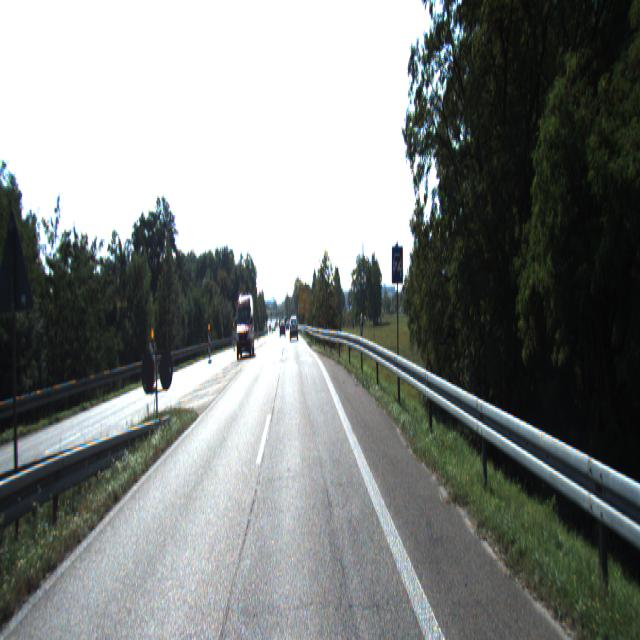Car: (235, 296, 255, 364), (289, 316, 298, 340)
